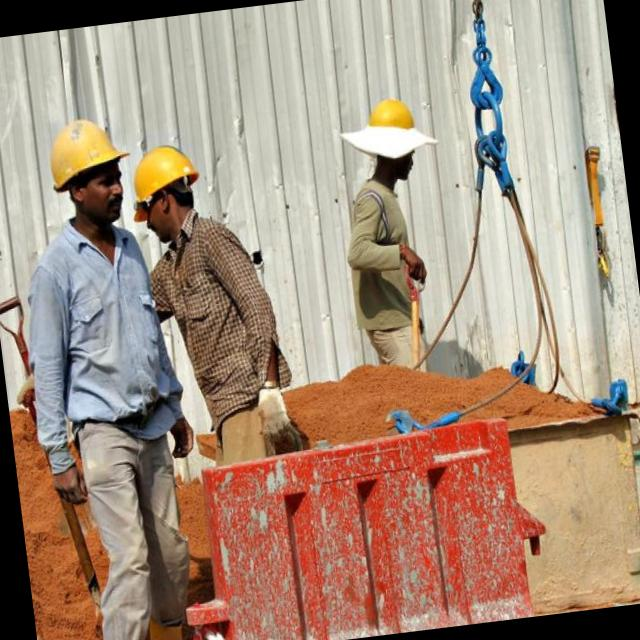Gloves: (244, 386, 292, 442)
Helmet: (28, 114, 136, 196), (119, 140, 221, 222), (348, 74, 437, 166)
